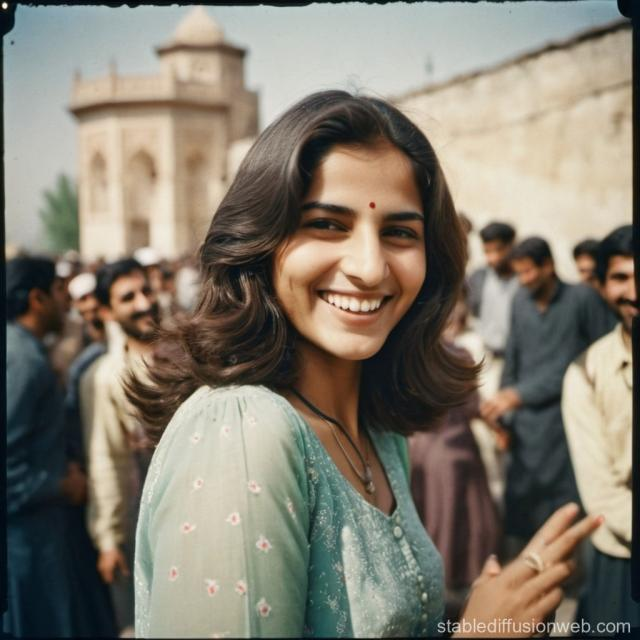front: (272, 178, 426, 352)
